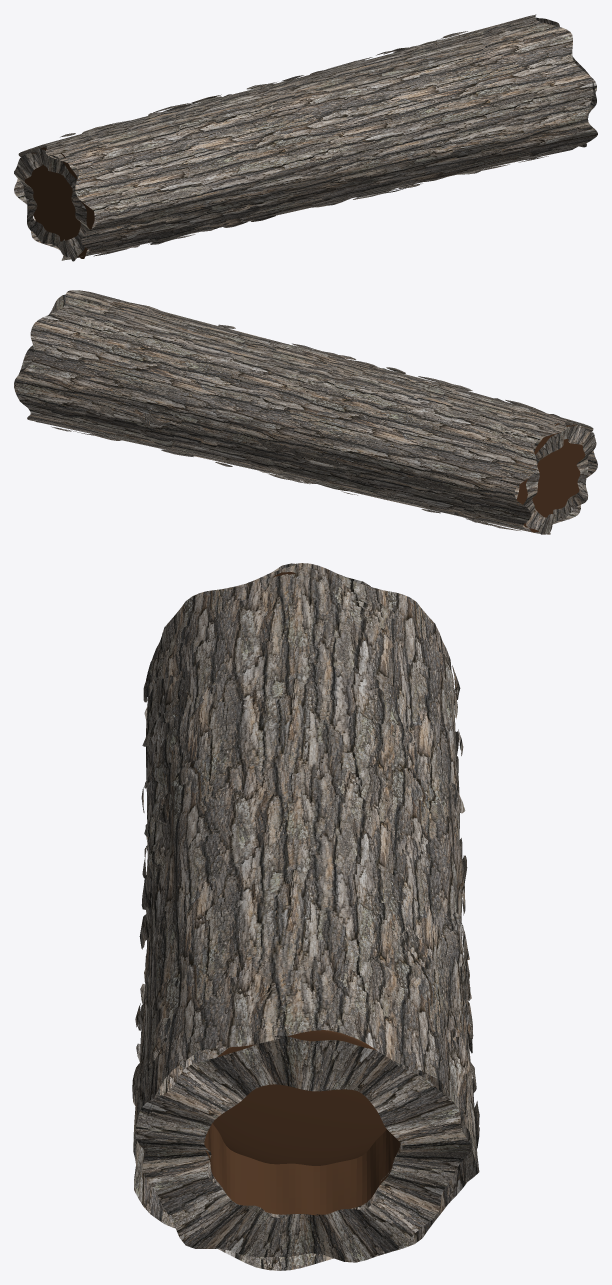
Rendered from rotted-hollow-log-v02.glb.
3 views of the same model, one above another, from view 1: azimuth 30°, elevation 25°; view 2: azimuth 150°, elevation 25°; view 3: azimuth 270°, elevation 25° (orthographic). The views are drawn at different scales.
Parts seen in each view (by area): view 1: Fallen trunk | photo bark and real volume, Layered bark flakes | modeled relief, Far end | rough broken heartwood, Broken bark rim | textured fractured edge; view 2: Fallen trunk | photo bark and real volume, Layered bark flakes | modeled relief, Far end | rough broken heartwood, Broken bark rim | textured fractured edge, Broken bark rim | textured fractured edge.001; view 3: Fallen trunk | photo bark and real volume, Layered bark flakes | modeled relief, Broken bark rim | textured fractured edge.001, Dark depth inside broken trunk, Hollow interior | dark inner bark.
Part boxes in pixels (x1=…): Fallen trunk | photo bark and real volume: x1=14, y1=14, x2=597, y2=260; Layered bark flakes | modeled relief: x1=53, y1=24, x2=577, y2=256; Far end | rough broken heartwood: x1=24, y1=147, x2=94, y2=258; Broken bark rim | textured fractured edge: x1=14, y1=148, x2=89, y2=261; Fallen trunk | photo bark and real volume: x1=14, y1=290, x2=597, y2=534; Layered bark flakes | modeled relief: x1=51, y1=293, x2=559, y2=530; Far end | rough broken heartwood: x1=516, y1=423, x2=585, y2=532; Broken bark rim | textured fractured edge: x1=522, y1=425, x2=596, y2=534; Broken bark rim | textured fractured edge.001: x1=18, y1=294, x2=69, y2=422; Fallen trunk | photo bark and real volume: x1=133, y1=563, x2=479, y2=1270; Layered bark flakes | modeled relief: x1=132, y1=566, x2=479, y2=1148; Broken bark rim | textured fractured edge.001: x1=135, y1=1035, x2=471, y2=1262; Dark depth inside broken trunk: x1=212, y1=1030, x2=386, y2=1165; Hollow interior | dark inner bark: x1=204, y1=1123, x2=400, y2=1215.
Size of the model in its own units: 3.41 by 0.7605 by 1.01.
2 materials, 1 textured.
